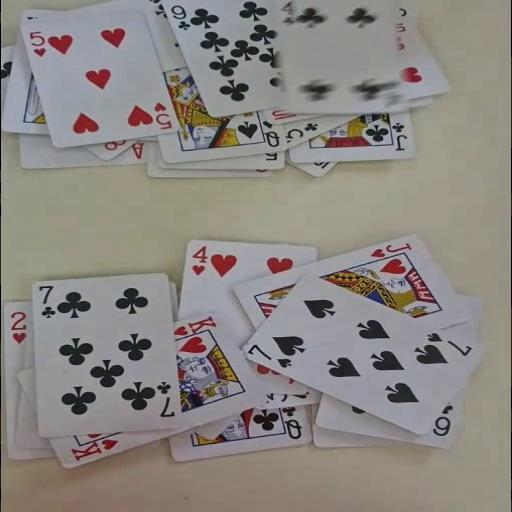2: (8, 310, 28, 344)
4: (188, 244, 208, 277)
5: (152, 100, 174, 130), (26, 29, 48, 58)
6: (430, 402, 455, 436)
7: (424, 330, 473, 358), (244, 342, 294, 369), (154, 380, 176, 418), (36, 283, 58, 319)
9: (168, 3, 191, 30)
J: (367, 241, 413, 259), (390, 121, 408, 151)
K: (67, 436, 120, 462), (170, 314, 219, 337)
